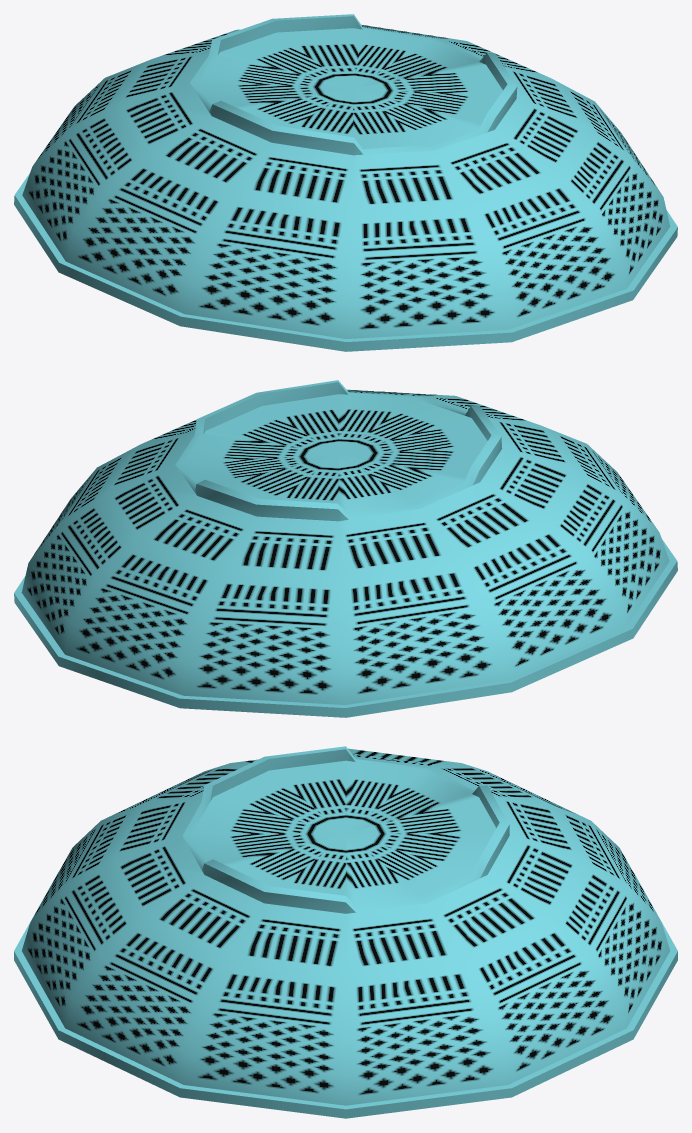
3 views of the same model, one above another, from view 1: azimuth 30°, elevation 25°; view 2: azimuth 150°, elevation 25°; view 3: azimuth 270°, elevation 25° (orthographic).
Visible parts, largest first — view 1: Joint_0_Object_0; view 2: Joint_0_Object_0; view 3: Joint_0_Object_0.
Boxes of the visible parts, x1,y1,x2,y2 form: Joint_0_Object_0: [14, 14, 677, 351]; Joint_0_Object_0: [14, 380, 677, 717]; Joint_0_Object_0: [14, 746, 677, 1118].
Bounding box in the file's own units: 507 × 142 × 508.
1 material, 1 textured.
